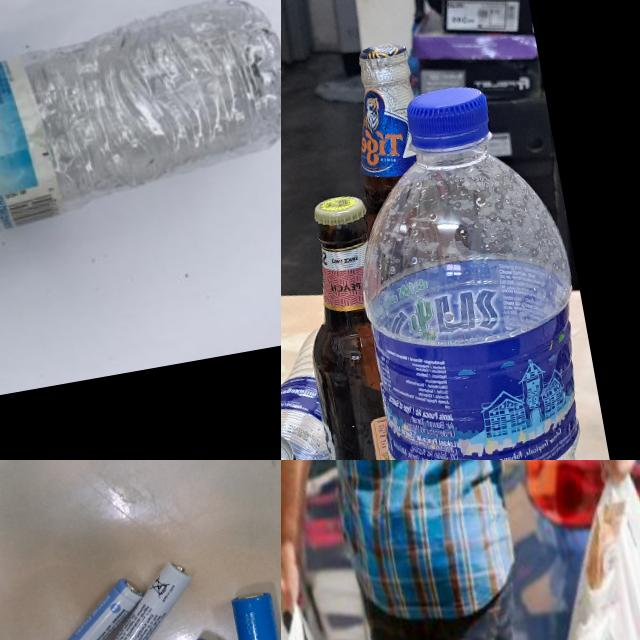bateria: (87, 560, 204, 640), (30, 574, 157, 640), (229, 590, 281, 640)
garrafa de vidro: (284, 192, 423, 460), (333, 41, 437, 236)
garrafa plástica: (333, 127, 628, 460), (0, 0, 281, 262), (281, 328, 352, 460)
sacola plástica: (497, 460, 640, 640)
tampa plástica: (402, 79, 492, 152)
